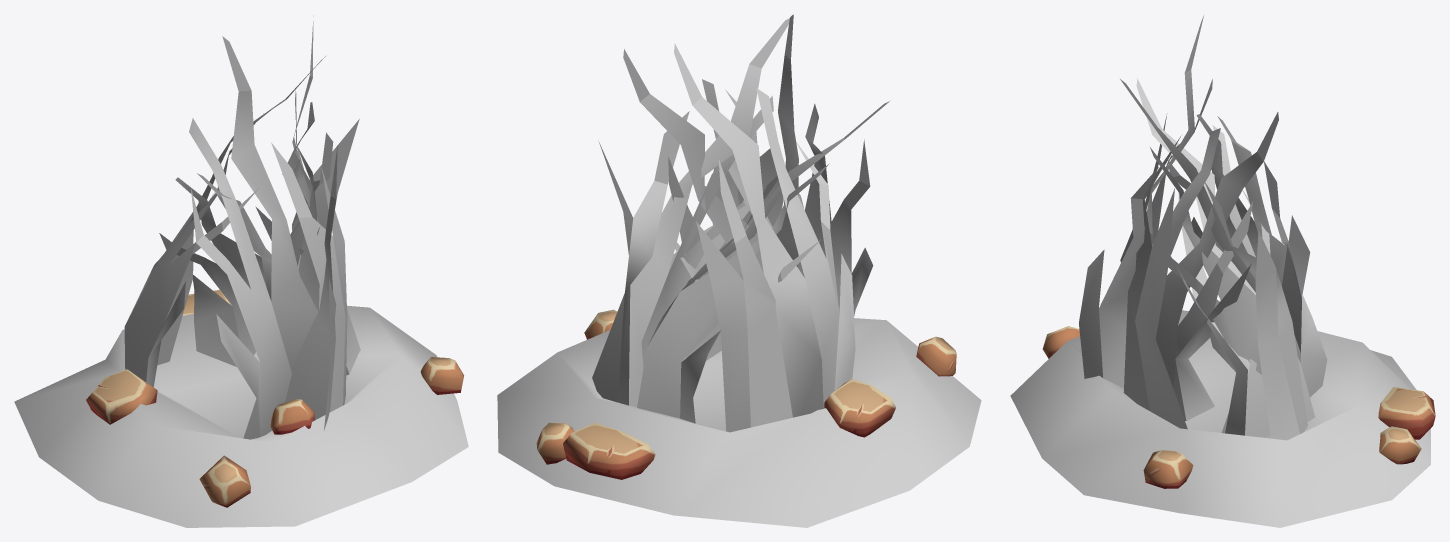
Rendered from campfire_straw.fbx.
3 views of the same model, side by side, from view 1: azimuth 30°, elevation 25°; view 2: azimuth 150°, elevation 25°; view 3: azimuth 270°, elevation 25° (orthographic). The views are drawn at different scales.
Visible parts, largest first — view 1: polySurface16; view 2: polySurface16; view 3: polySurface16.
Part boxes in pixels (<box>): polySurface16: <box>14,15,468,527</box>; polySurface16: <box>497,14,981,527</box>; polySurface16: <box>1010,15,1435,527</box>.
Bounding box in the file's own units: 143 × 139 × 136.
